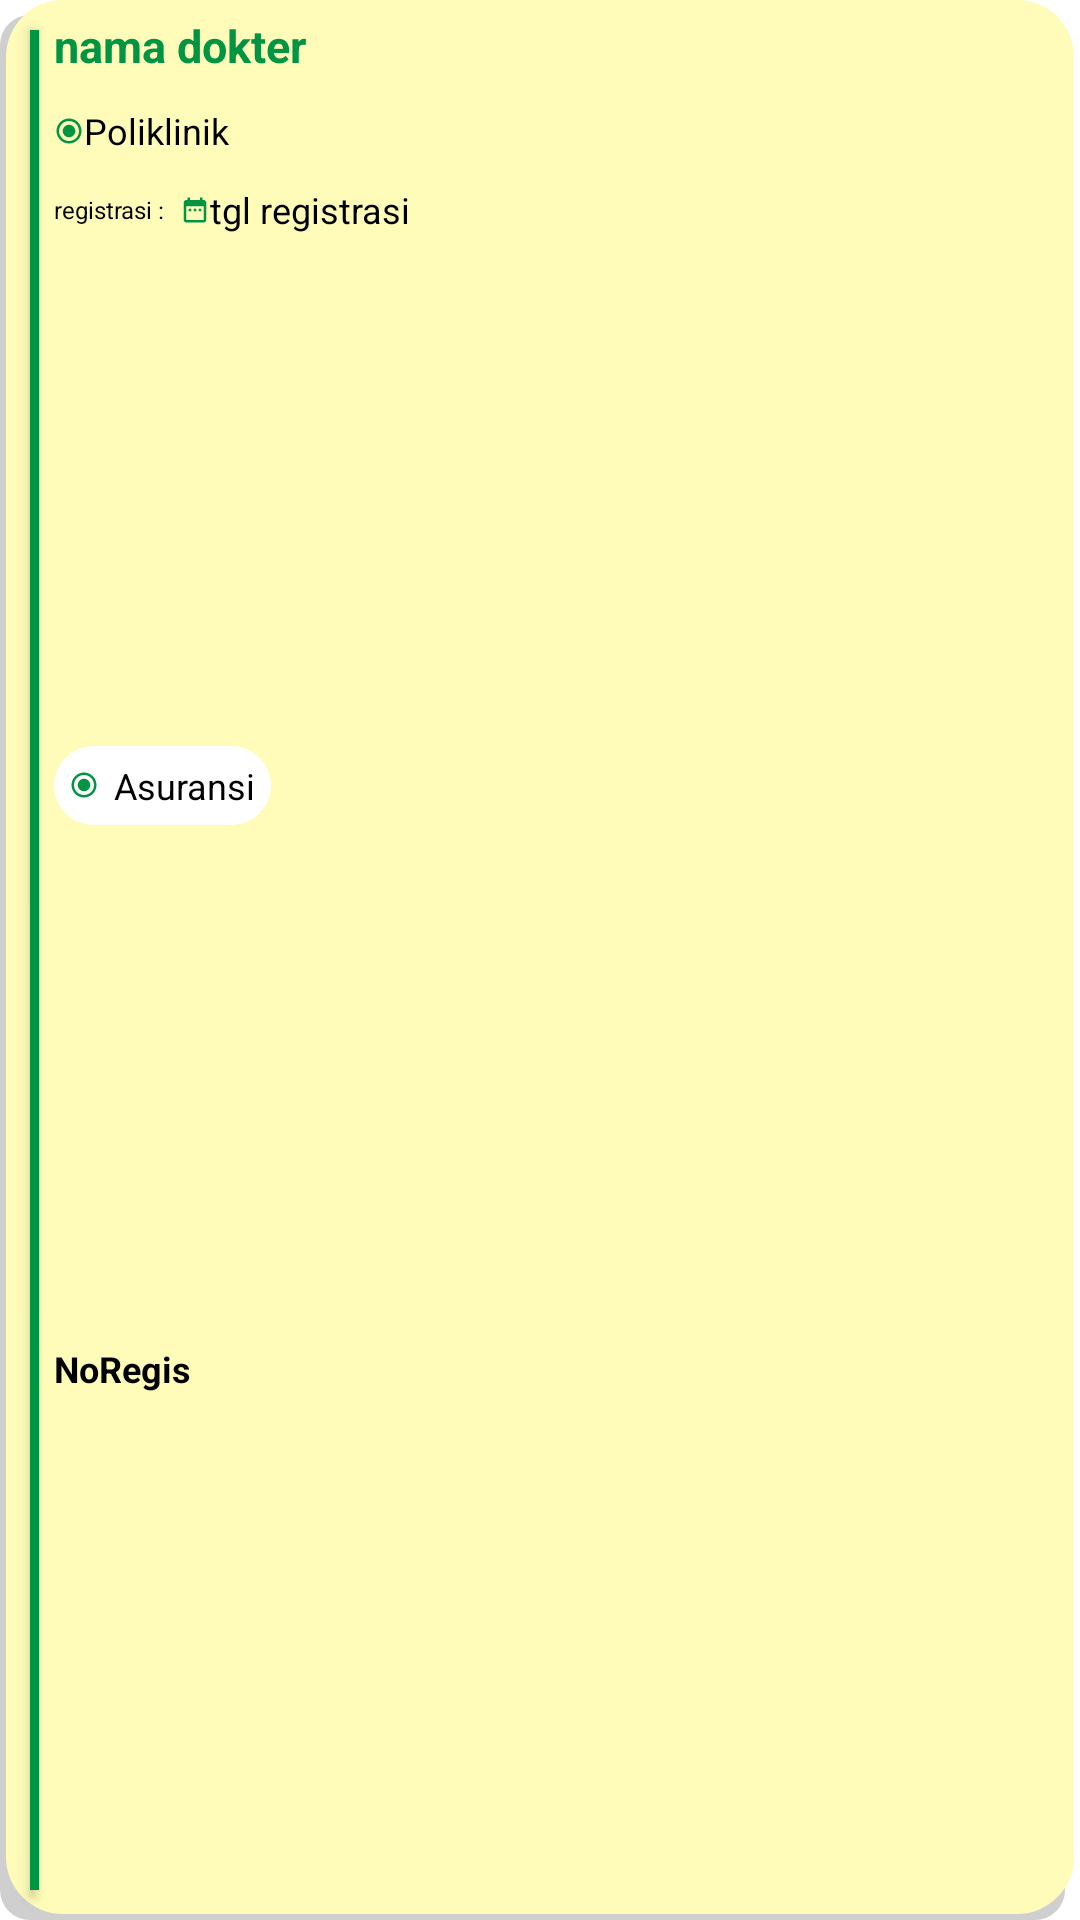

Icon bounding boxes for this 1080x1920 phone screenshot, format bbox(x1, y1, x2, y2):
date range: bbox(183, 197, 207, 223)
dot: bbox(56, 118, 82, 144), bbox(71, 772, 97, 798)
